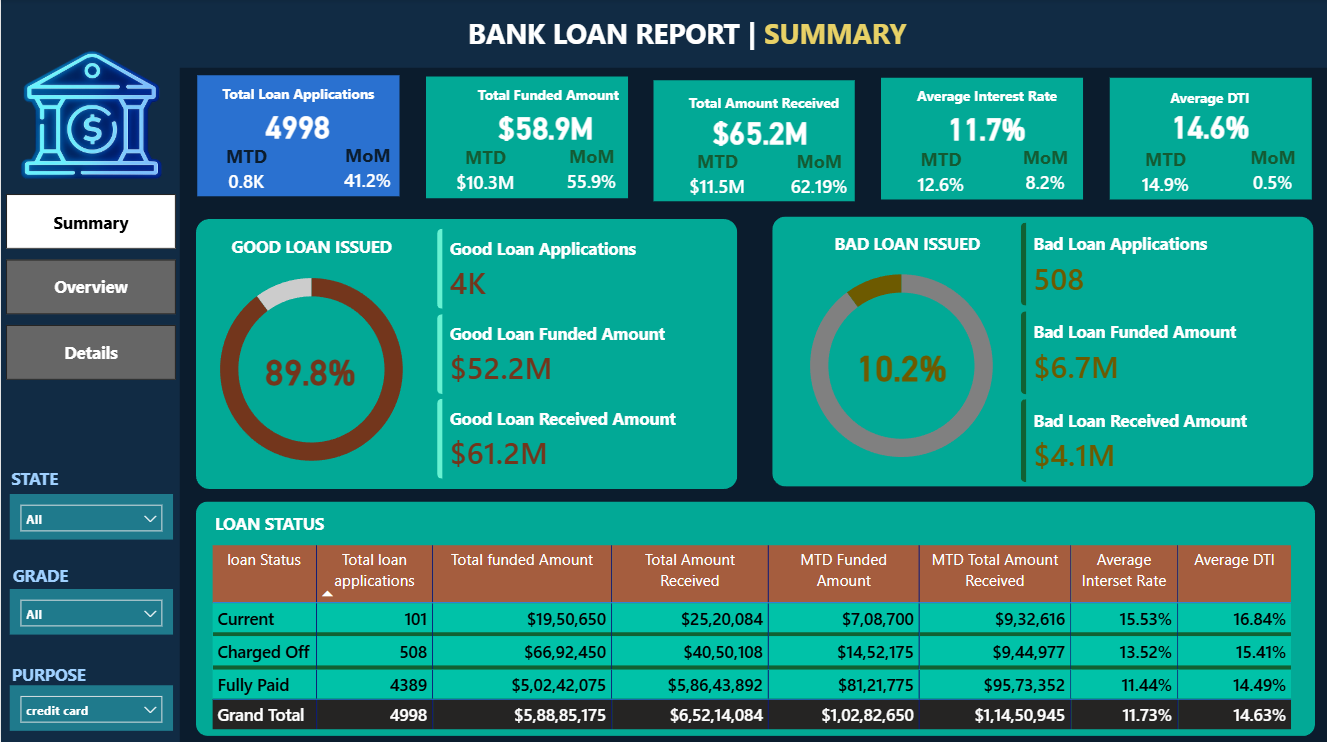

What the dashboard file says about the page in this screenshot:
{"tool":"powerbi","page":{"name":"Summary","canvas":[1280,720],"ordinal":0},"visuals":[{"type":"shape","box":[0,0,172.5,720.2],"z":0},{"type":"shape","box":[188.2,212.3,522.4,260.6],"z":1000},{"type":"shape","box":[410,74.8,195,117.5],"z":2000},{"type":"textbox","box":[430.9,78.6,195,38.8],"z":3000},{"type":"shape","box":[0,0,1280,66.4],"z":4000},{"type":"shape","box":[743.9,209.9,522.4,260.6],"z":5000},{"type":"textbox","box":[437.9,9.7,448.8,45.8],"z":6000},{"type":"donutChart","fields":{"Category":["Bank_Loan_Data.Good vs Bad Loan "],"Y":["Bank_Loan_Data.Total loan applications"]},"box":[174.5,242,249.7,230.4],"z":7000},{"type":"card","fields":{"Values":["Bank_Loan_Data.Total funded Amount"]},"box":[442.8,103.5,166.5,39.8],"z":8000},{"type":"card","title":"MTD","fields":{"Values":["Bank_Loan_Data.MTD Funded Amount"]},"box":[428.8,141.2,78.8,53.8],"z":9000},{"type":"card","title":"MoM","fields":{"Values":["Bank_Loan_Data.MoM Total Funded Amount"]},"box":[535,140,71.2,53.8],"z":10000},{"type":"shape","box":[189.4,73.8,195.4,117],"z":11000},{"type":"textbox","box":[189.7,77.6,195,38.8],"z":12000},{"type":"card","fields":{"Values":["Bank_Loan_Data.Total loan applications"]},"box":[202.9,103,167.7,39.8],"z":13000},{"type":"card","title":"MTD","fields":{"Values":["Bank_Loan_Data.MTD Loan Applicatons"]},"box":[207.4,140.1,58.8,53.8],"z":14000},{"type":"card","title":"MoM","fields":{"Values":["Bank_Loan_Data.MoM Loan Applications"]},"box":[325,138.8,58.8,53.8],"z":15000},{"type":"shape","box":[630.1,78.9,194.2,117],"z":16000},{"type":"textbox","box":[655.3,85.4,162.9,38.6],"z":17000},{"type":"card","fields":{"Values":["Bank_Loan_Data.Total Amount Received"]},"box":[649.3,109.5,167.7,37.4],"z":18000},{"type":"card","title":"MTD","fields":{"Values":["Bank_Loan_Data.MTD Total Amount Received"]},"box":[651.2,145,80,53.8],"z":19000},{"type":"card","title":"MoM","fields":{"Values":["Bank_Loan_Data.MoM Total Amount Received"]},"box":[753.8,145,71.2,53.8],"z":20000},{"type":"shape","box":[849.4,76.2,195,117.5],"z":21000},{"type":"textbox","box":[854,79.9,195,38.8],"z":22000},{"type":"card","fields":{"Values":["Bank_Loan_Data.Average Interset Rate"]},"box":[867.9,104.7,167.7,38.6],"z":23000},{"type":"card","title":"MTD","fields":{"Values":["Bank_Loan_Data.MTD Average Interset Rate"]},"box":[867.9,142.1,79.6,54.3],"z":24000},{"type":"card","title":"MoM","fields":{"Values":["Bank_Loan_Data.MoM Average Interest Rate"]},"box":[972.5,141.2,71.2,53.8],"z":25000},{"type":"shape","box":[1069.5,76.2,195,117.5],"z":26000},{"type":"textbox","box":[1070.6,80.6,193,27.7],"z":27000},{"type":"card","fields":{"Values":["Bank_Loan_Data.Average DTI"]},"box":[1083.9,101.1,167.7,42.2],"z":28000},{"type":"card","title":"MTD","fields":{"Values":["Bank_Loan_Data.MTD Average DTI"]},"box":[1085,142.4,78.8,53.8],"z":29000},{"type":"donutChart","fields":{"Category":["Bank_Loan_Data.Good vs Bad Loan "],"Y":["Bank_Loan_Data.Total loan applications"]},"box":[744.4,238.9,249.7,230.4],"z":30000},{"type":"card","title":"MoM","fields":{"Values":["Bank_Loan_Data.MoM Average DTI"]},"box":[1192.5,141.2,71.2,53.8],"z":31000},{"type":"card","fields":{"Values":["Bank_Loan_Data.Good loan %"]},"box":[244.2,337.3,109.8,41],"z":32000},{"type":"textbox","box":[202.8,222.7,194.2,38.6],"z":33000},{"type":"cardVisual","fields":{"Data":["Bank_Loan_Data.Good Loan Applications","Bank_Loan_Data.Good Loan Funded Amount","Bank_Loan_Data.Good Loan Received Amount"]},"box":[403.7,204.6,311.3,276.3],"z":34000},{"type":"textbox","box":[777.7,219.6,193,38.6],"z":35000},{"type":"card","fields":{"Values":["Bank_Loan_Data.Bad loan %"]},"box":[814.3,334.2,109.8,41],"z":36000},{"type":"shape","box":[188.8,485,1080,226.2],"z":37000},{"type":"cardVisual","fields":{"Data":["Bank_Loan_Data.Bad Loan Applications","Bank_Loan_Data.Bad Loan Funded Amount","Bank_Loan_Data.Bad Loan Received Amount"]},"box":[967.1,199.1,310.1,285.9],"z":38000},{"type":"tableEx","fields":{"Values":["Bank_Loan_Data.loan_status","Bank_Loan_Data.Total loan applications","Bank_Loan_Data.Total funded Amount","Bank_Loan_Data.Total Amount Received","Bank_Loan_Data.MTD Funded Amount","Bank_Loan_Data.MTD Total Amount Received","Bank_Loan_Data.Average Interset Rate","Bank_Loan_Data.Average DTI"]},"box":[197.5,522.5,1053.8,191.2],"z":39000},{"type":"textbox","box":[201.3,489.8,178.8,41.2],"z":40000},{"type":"slicer","fields":{"Values":["Bank_Loan_Data.address_state"]},"box":[8.6,477.5,157.5,43.8],"z":41000},{"type":"textbox","box":[1.1,446.2,62.5,31.2],"z":42000},{"type":"slicer","fields":{"Values":["Bank_Loan_Data.grade"]},"box":[8.6,569.8,157.5,43.8],"z":43000},{"type":"slicer","fields":{"Values":["Bank_Loan_Data.purpose"]},"box":[8.6,662.9,157.5,43.8],"z":44000},{"type":"textbox","box":[1.1,541,73.8,31.2],"z":45000},{"type":"textbox","box":[4.9,635.4,82.5,31.2],"z":46000},{"type":"image","box":[14.3,22.9,150,182.9],"z":47000},{"type":"pageNavigator","box":[4.3,188.6,164.3,181.4],"z":48000}]}

Visuals, with their boxes in screenshot pixels (x1, y1, x2, y2), scaled from the page's 1280x720 canvas onto the 1327x742 screenshot:
shape: (left=0, top=0, right=179, bottom=741)
shape: (left=195, top=219, right=737, bottom=487)
shape: (left=425, top=77, right=627, bottom=198)
textbox: (left=447, top=81, right=649, bottom=121)
shape: (left=0, top=0, right=1326, bottom=68)
shape: (left=771, top=216, right=1313, bottom=485)
textbox: (left=454, top=10, right=919, bottom=57)
donutChart - Bank_Loan_Data.Good vs Bad Loan  x Bank_Loan_Data.Total loan applications: (left=181, top=249, right=440, bottom=487)
card - Bank_Loan_Data.Total funded Amount: (left=459, top=107, right=632, bottom=148)
"MTD" card: (left=445, top=146, right=526, bottom=201)
"MoM" card: (left=555, top=144, right=628, bottom=200)
shape: (left=196, top=76, right=399, bottom=197)
textbox: (left=197, top=80, right=399, bottom=120)
card - Bank_Loan_Data.Total loan applications: (left=210, top=106, right=384, bottom=147)
"MTD" card: (left=215, top=144, right=276, bottom=200)
"MoM" card: (left=337, top=143, right=398, bottom=198)
shape: (left=653, top=81, right=855, bottom=202)
textbox: (left=679, top=88, right=848, bottom=128)
card - Bank_Loan_Data.Total Amount Received: (left=673, top=113, right=847, bottom=151)
"MTD" card: (left=675, top=149, right=758, bottom=205)
"MoM" card: (left=781, top=149, right=855, bottom=205)
shape: (left=881, top=79, right=1083, bottom=200)
textbox: (left=885, top=82, right=1088, bottom=122)
card - Bank_Loan_Data.Average Interset Rate: (left=900, top=108, right=1074, bottom=148)
"MTD" card: (left=900, top=146, right=982, bottom=202)
"MoM" card: (left=1008, top=146, right=1082, bottom=201)
shape: (left=1109, top=79, right=1311, bottom=200)
textbox: (left=1110, top=83, right=1310, bottom=112)
card - Bank_Loan_Data.Average DTI: (left=1124, top=104, right=1298, bottom=148)
"MTD" card: (left=1125, top=147, right=1207, bottom=202)
donutChart - Bank_Loan_Data.Good vs Bad Loan  x Bank_Loan_Data.Total loan applications: (left=772, top=246, right=1031, bottom=484)
"MoM" card: (left=1236, top=146, right=1310, bottom=201)
card - Bank_Loan_Data.Good loan %: (left=253, top=348, right=367, bottom=390)
textbox: (left=210, top=230, right=412, bottom=269)
cardVisual - Bank_Loan_Data.Good Loan Applications x Bank_Loan_Data.Good Loan Funded Amount: (left=419, top=211, right=741, bottom=496)
textbox: (left=806, top=226, right=1006, bottom=266)
card - Bank_Loan_Data.Bad loan %: (left=844, top=344, right=958, bottom=387)
shape: (left=196, top=500, right=1315, bottom=733)
cardVisual - Bank_Loan_Data.Bad Loan Applications x Bank_Loan_Data.Bad Loan Funded Amount: (left=1003, top=205, right=1324, bottom=500)
tableEx - Bank_Loan_Data.loan_status x Bank_Loan_Data.Total loan applications: (left=205, top=538, right=1297, bottom=736)
textbox: (left=209, top=505, right=394, bottom=547)
slicer - Bank_Loan_Data.address_state: (left=9, top=492, right=172, bottom=537)
textbox: (left=1, top=460, right=66, bottom=492)
slicer - Bank_Loan_Data.grade: (left=9, top=587, right=172, bottom=632)
slicer - Bank_Loan_Data.purpose: (left=9, top=683, right=172, bottom=728)
textbox: (left=1, top=558, right=78, bottom=590)
textbox: (left=5, top=655, right=91, bottom=687)
image: (left=15, top=24, right=170, bottom=212)
pageNavigator: (left=4, top=194, right=175, bottom=381)
